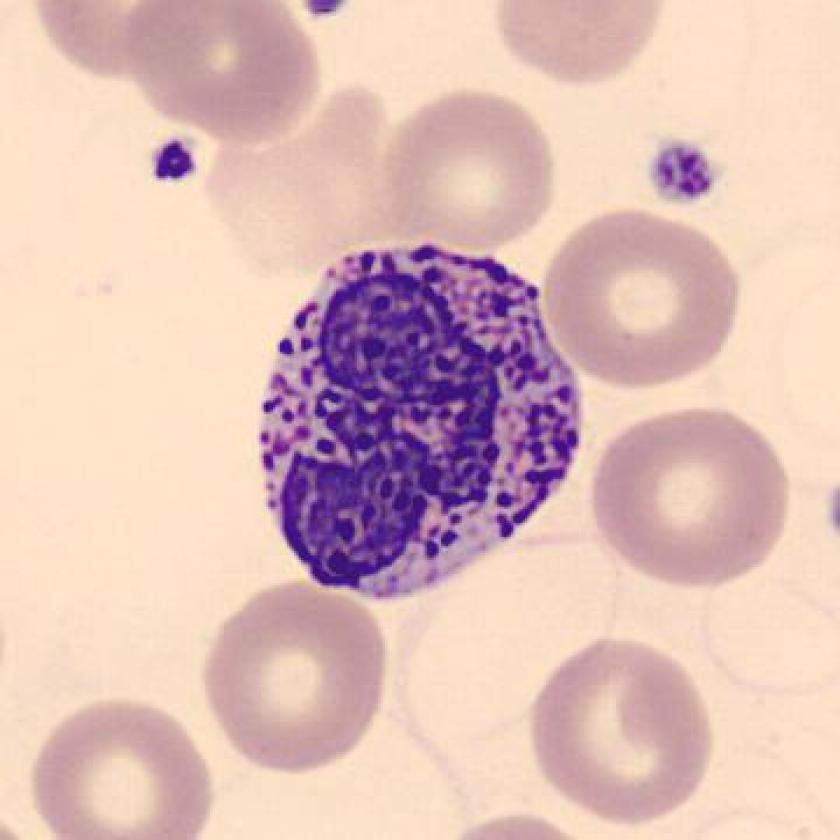basophil: (246, 239, 589, 603)
